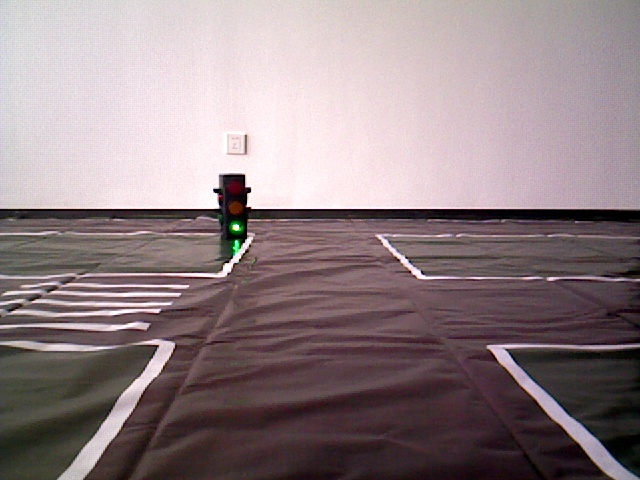green: (219, 175, 247, 235)
